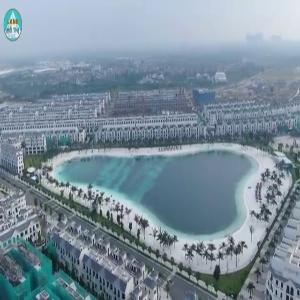drone: (6, 125, 101, 220)
